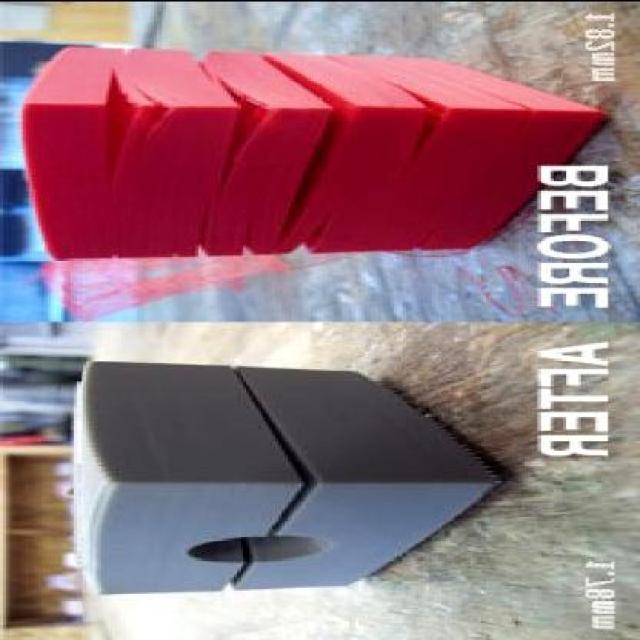cracks: (227, 378, 359, 528), (292, 64, 366, 198), (95, 62, 159, 200), (205, 72, 284, 178), (378, 74, 456, 180), (234, 206, 348, 262), (470, 82, 547, 161), (194, 568, 289, 602), (180, 198, 220, 262), (398, 226, 453, 262)
